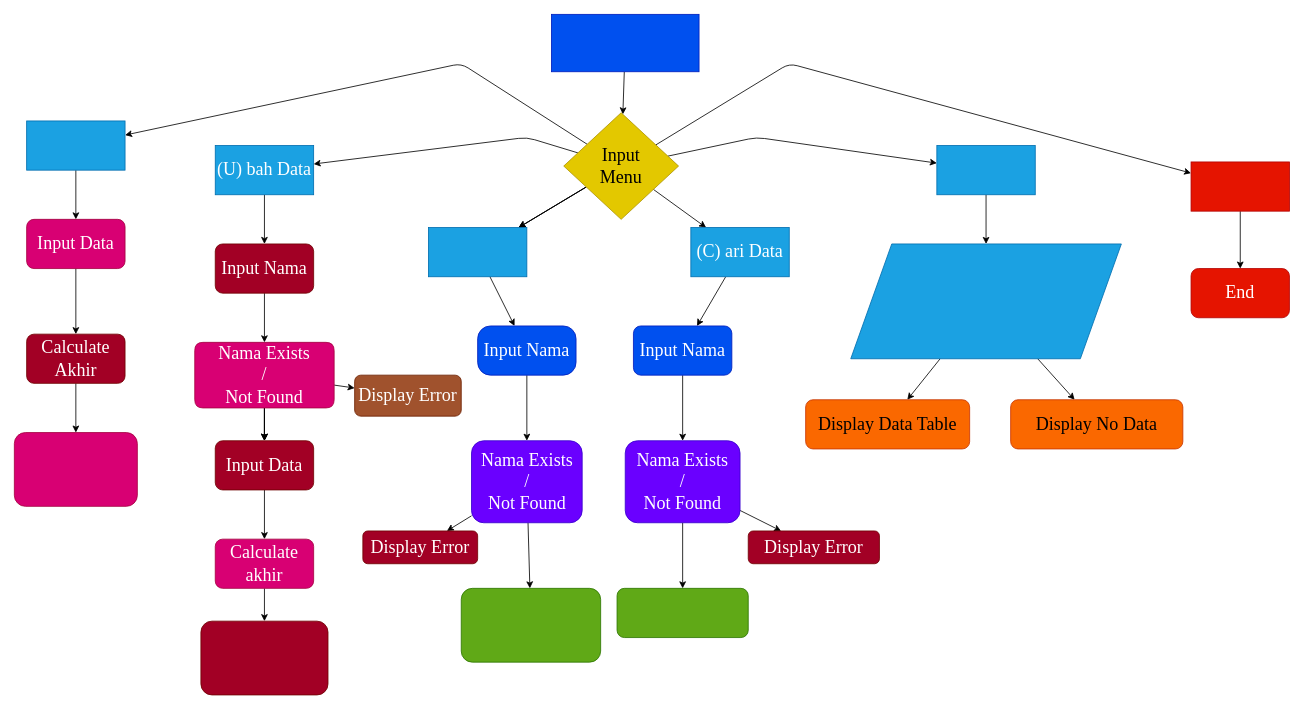
Some shapes in this 1304 by 709 pixel diagram are drawn without their labels. The centre of each missing label's shape, as x and y in pixels:
"(H) apus Data" belongs at (x=477, y=252).
"(L) ihat Data" belongs at (x=985, y=170).
"(T) ambah Data" belongs at (x=75, y=145).
"Delete data in Dictionary" belongs at (x=530, y=625).
"Dictionary Not Empty / Dictionary Empty" belongs at (x=985, y=301).
"Display Data" belongs at (x=682, y=613).
"Exit" belongs at (x=1239, y=186).
"Start" belongs at (x=625, y=43).
"Store data in Dictionary" belongs at (x=75, y=469).
"Update data in Dictionary" belongs at (x=264, y=657).
